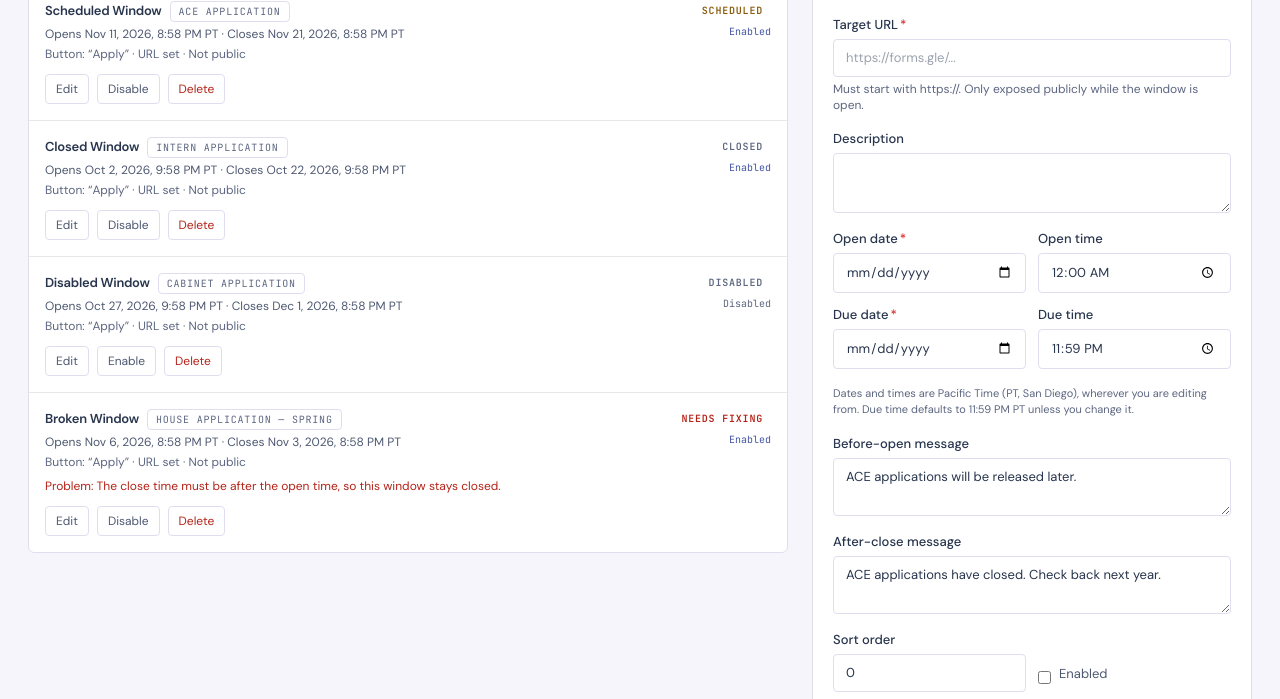
Test: publishing needs an explicit yes › leaves the window untouched when the confirmation is cancelled
(page scrolled)
Click the button "Edit" below "Disabled Window" at (67, 361), box [45,346,89,376]
(page scrolled)
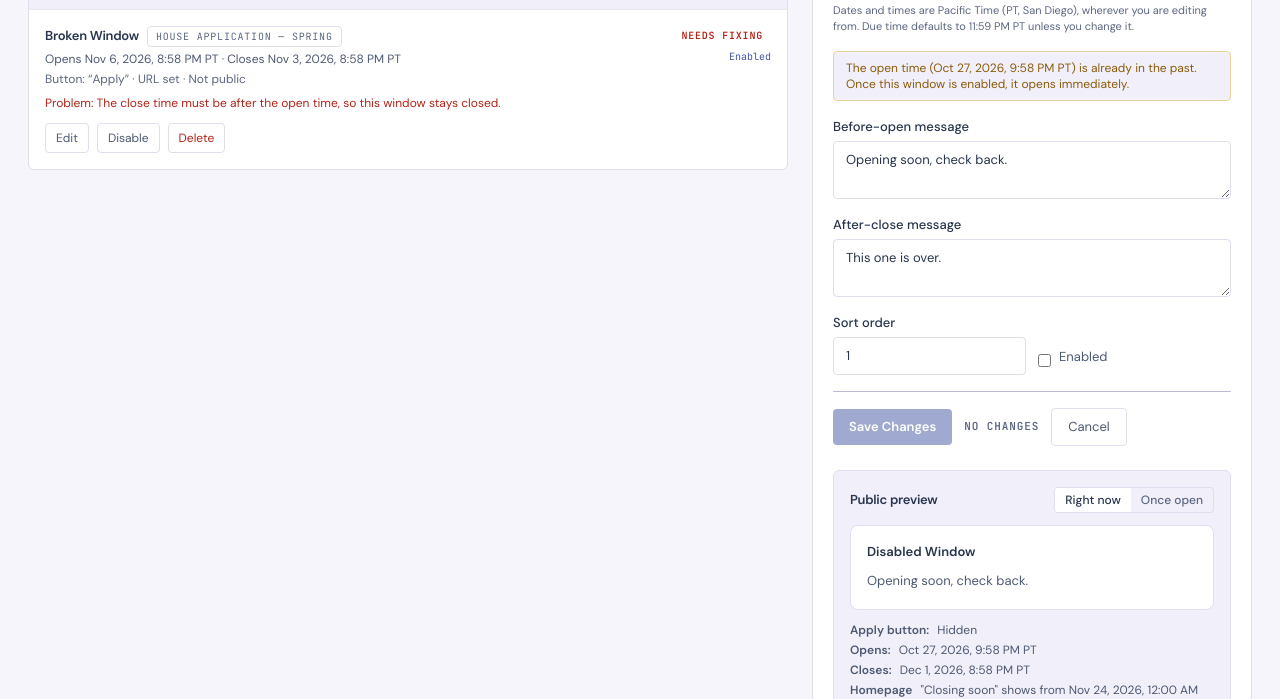
Click the checkbox labelled "Enabled" at (1044, 360), box [1038,354,1051,367]
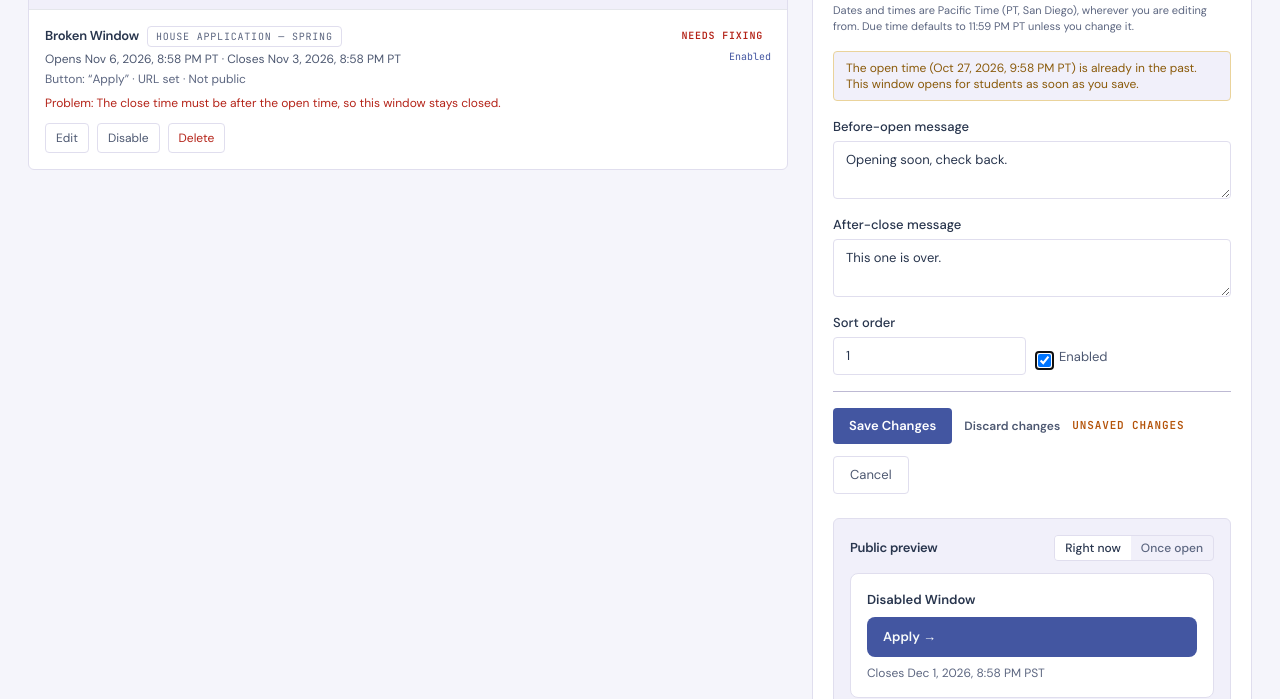
Click the button "Save Changes" at (893, 426), box [833,408,952,444]
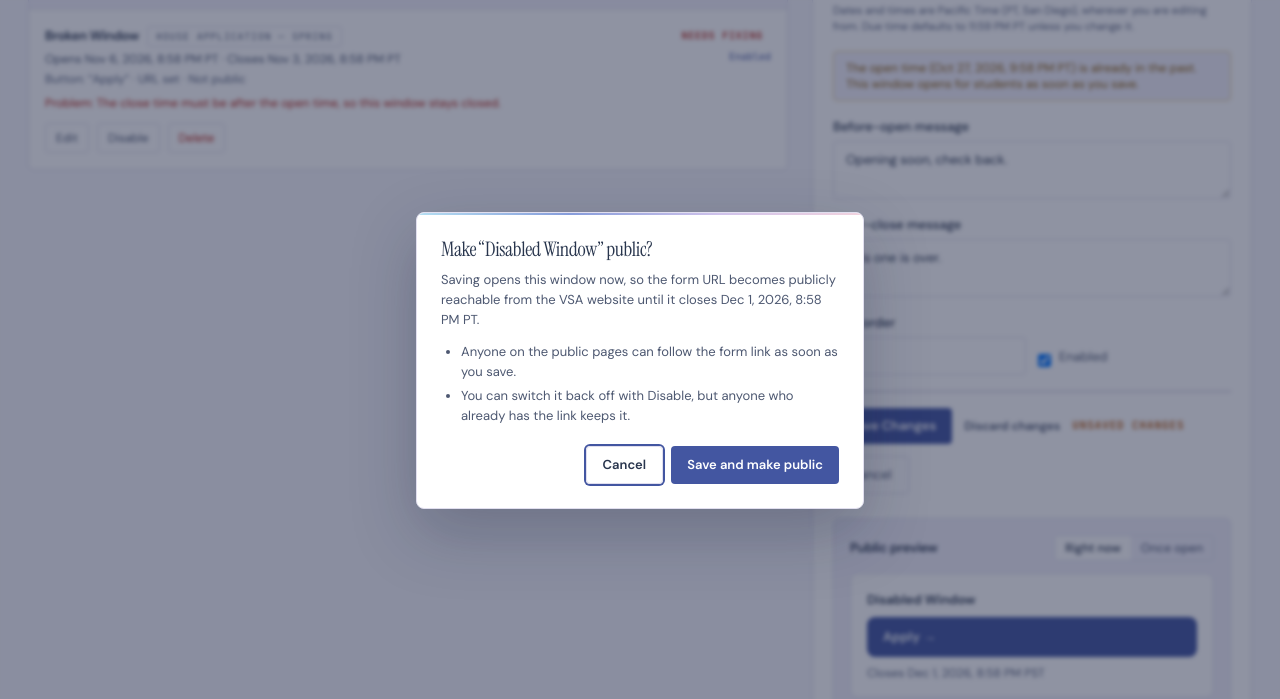
Click the button "Cancel" at (624, 464), box [586,446,663,484]
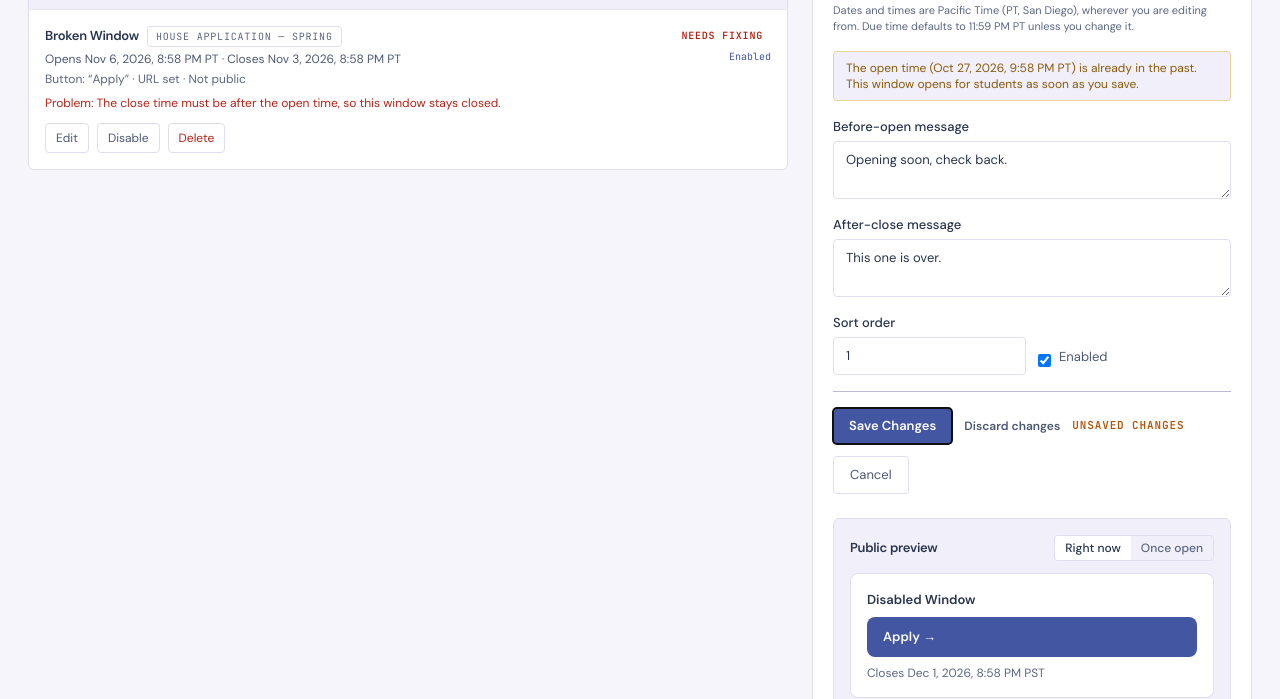
Result: the dialog is gone
